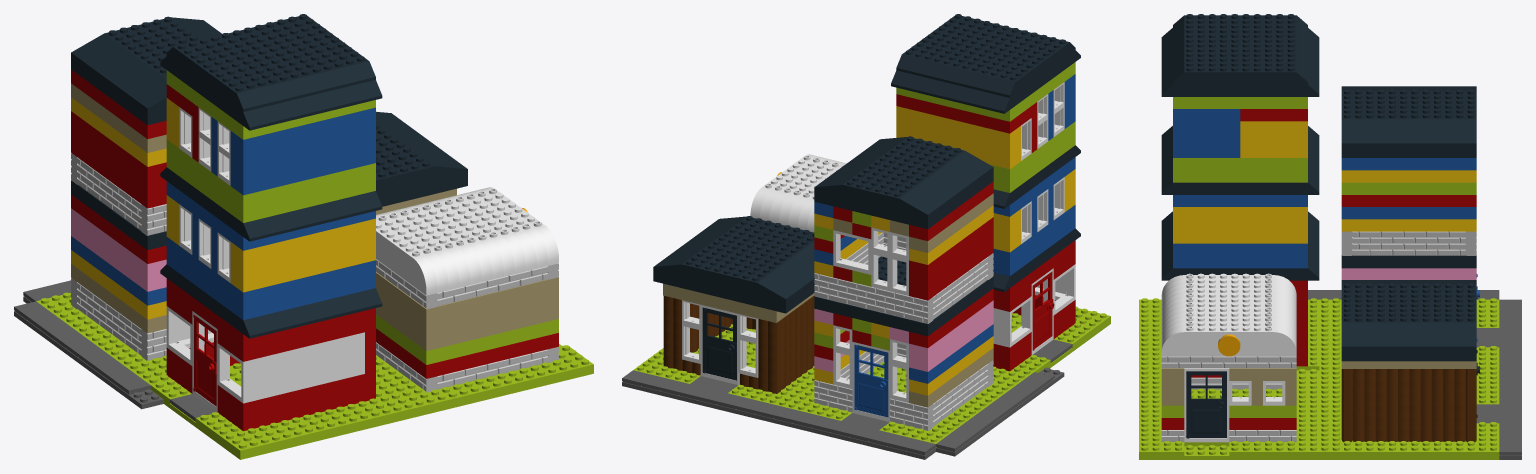
File: Block3-lod0.fbx
The picture shows the model from 3 angles, left to right: view 1: azimuth 30°, elevation 25°; view 2: azimuth 150°, elevation 25°; view 3: azimuth 270°, elevation 25°; orthographic projection. The views are drawn at different scales.
Visible parts, largest first — view 1: Material_26, Material_119, Material_1, Material_21, Material_23, Material_5, Material_208, Material_24, Material_199, Material_222; view 2: Material_26, Material_1, Material_21, Material_119, Material_199, Material_24, Material_208, Material_23, Material_192, Material_5, Material_222; view 3: Material_26, Material_119, Material_1, Material_23, Material_24, Material_192, Material_208, Material_199, Material_21, Material_5, Material_222, Material_191.
Boxes of the visible parts, bbox=[...] form: Material_26: bbox=[71, 14, 467, 338]; Material_119: bbox=[36, 70, 593, 459]; Material_1: bbox=[166, 107, 558, 412]; Material_21: bbox=[71, 69, 558, 431]; Material_23: bbox=[71, 107, 375, 320]; Material_5: bbox=[71, 83, 558, 350]; Material_208: bbox=[71, 153, 558, 392]; Material_24: bbox=[71, 97, 375, 319]; Material_199: bbox=[14, 280, 216, 421]; Material_222: bbox=[71, 208, 166, 291]; Material_26: bbox=[653, 14, 1080, 380]; Material_1: bbox=[682, 82, 1075, 421]; Material_21: bbox=[814, 94, 1075, 371]; Material_119: bbox=[633, 62, 1110, 447]; Material_199: bbox=[622, 339, 1072, 459]; Material_24: bbox=[814, 106, 1075, 395]; Material_208: bbox=[814, 232, 993, 430]; Material_23: bbox=[814, 74, 1075, 417]; Material_192: bbox=[663, 296, 814, 393]; Material_5: bbox=[663, 193, 993, 407]; Material_222: bbox=[814, 300, 993, 372]; Material_26: bbox=[1161, 14, 1479, 438]; Material_119: bbox=[1139, 97, 1499, 459]; Material_1: bbox=[1161, 273, 1296, 442]; Material_23: bbox=[1173, 109, 1479, 341]; Material_24: bbox=[1173, 121, 1476, 243]; Material_192: bbox=[1341, 369, 1476, 442]; Material_208: bbox=[1161, 231, 1476, 441]; Material_199: bbox=[1308, 290, 1521, 459]; Material_21: bbox=[1161, 109, 1476, 429]; Material_5: bbox=[1161, 361, 1476, 405]; Material_222: bbox=[1341, 268, 1476, 279]; Material_191: bbox=[1218, 334, 1240, 356].
Bounding box in the file's own units: 27.2 × 23.86 × 27.2.
